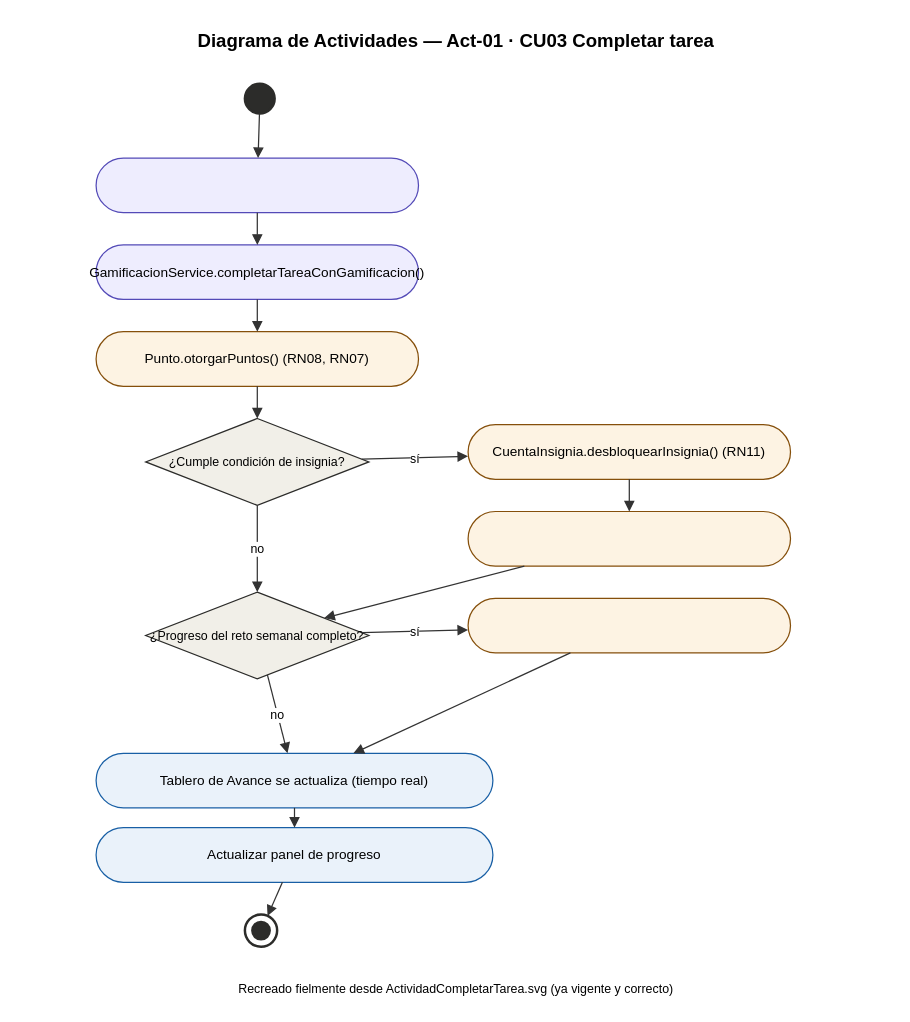
Some shapes in this 910 by 1022 pixel diagram are drawn without their labels. The centre of each missing label's shape, as x and y in pixels:
"Activar checkbox de la tarea" belongs at pixel 256 185.
"Mostrar animación de celebración" belongs at pixel 628 538.
"Reto.completarReto() + Punto.otorgarPuntos() (RN10)" belongs at pixel 628 625.
